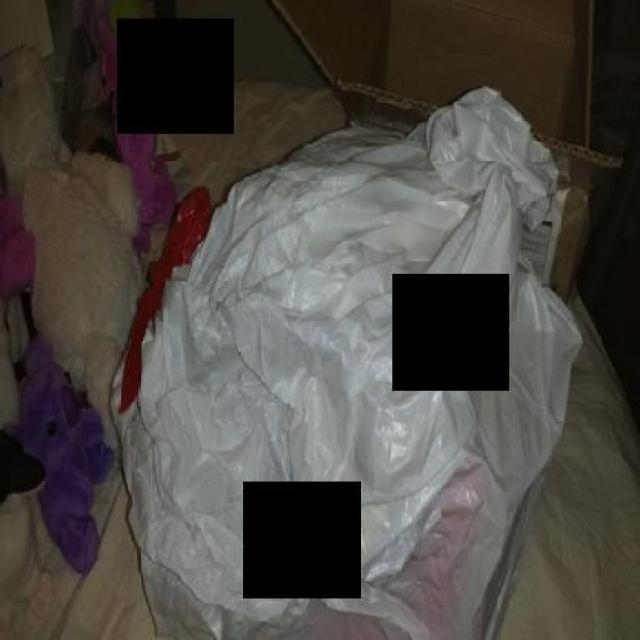plastic bag: (112, 80, 583, 638)
